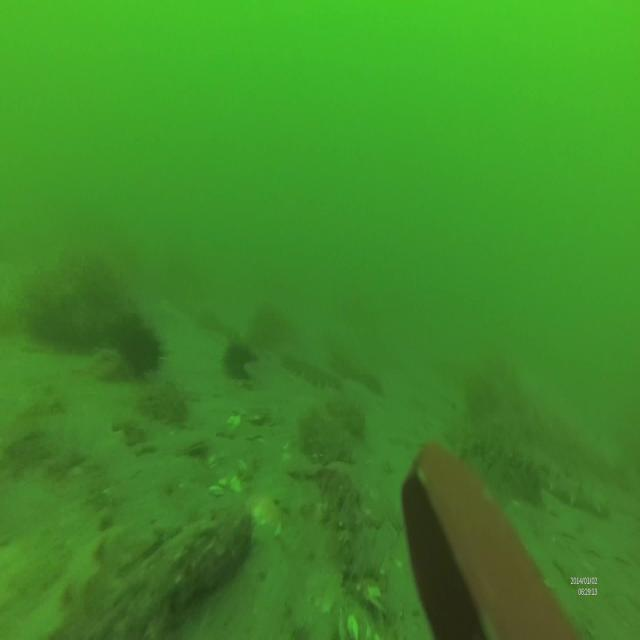echinus: (114, 318, 166, 380), (222, 338, 262, 386)
holothurian: (518, 452, 612, 517), (281, 345, 342, 392)
